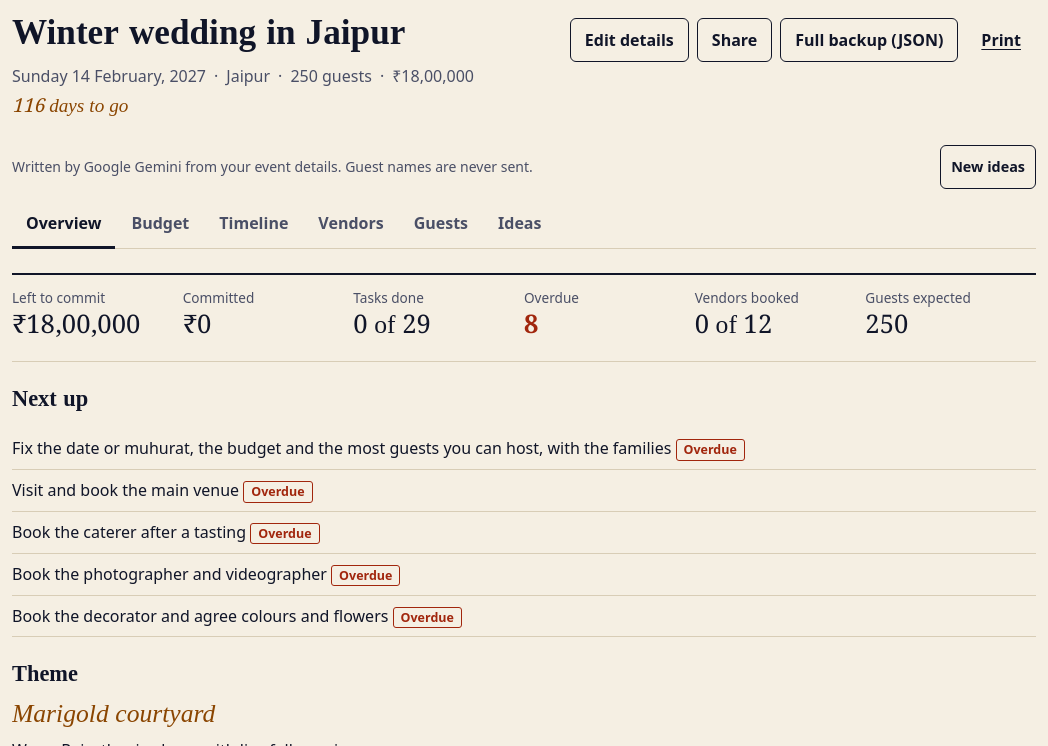
Test: AI announcements › keeps AI tasks and proposed tasks from landing before today
This screenshot has width=1048, height=746.
Click the tab "Ideas" at [520, 225], box [484, 201, 556, 249]
(page scrolled)
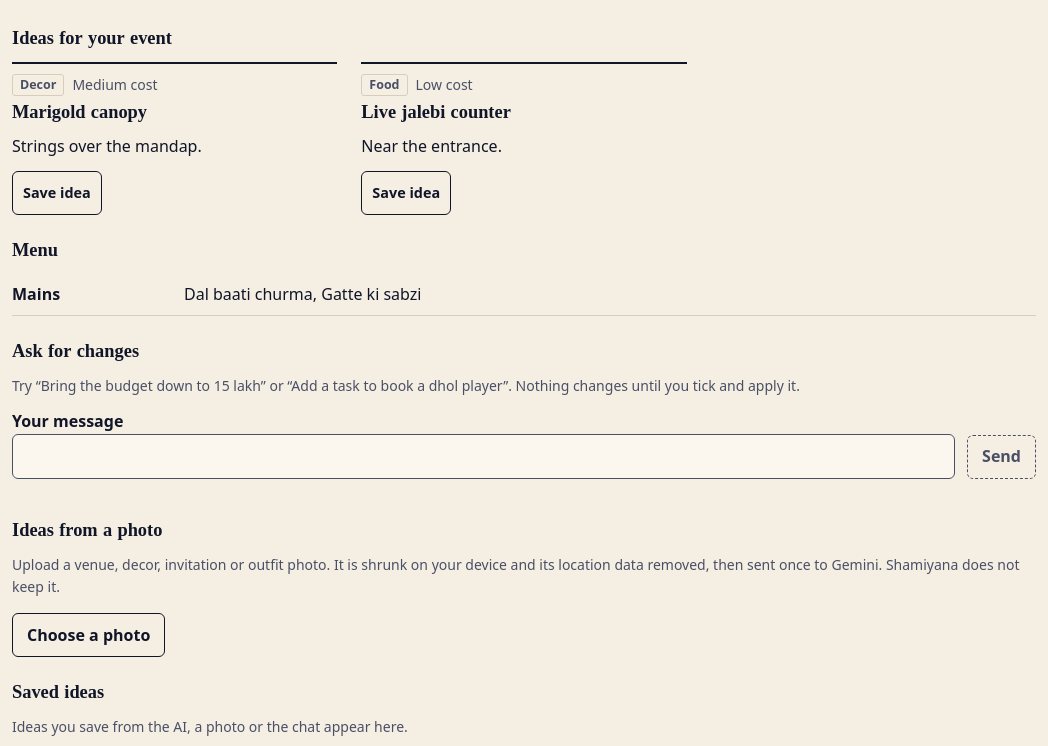
Click the field labelled "Your message" at [484, 456], box [12, 434, 955, 479]
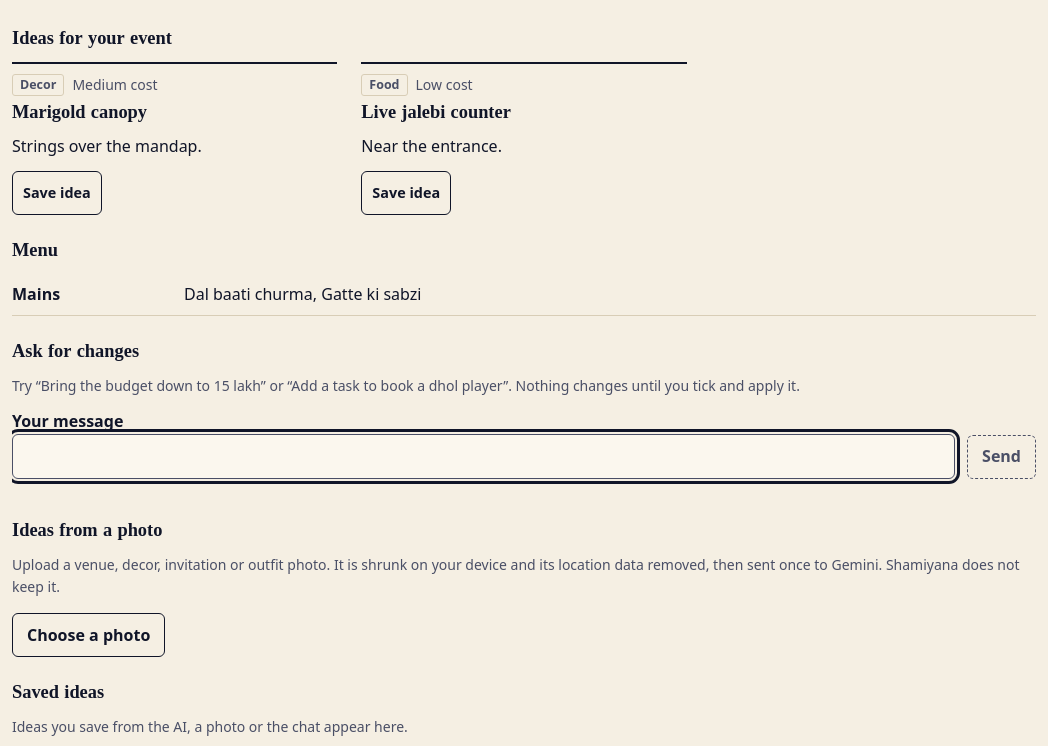
Type keys "Add a valet task"
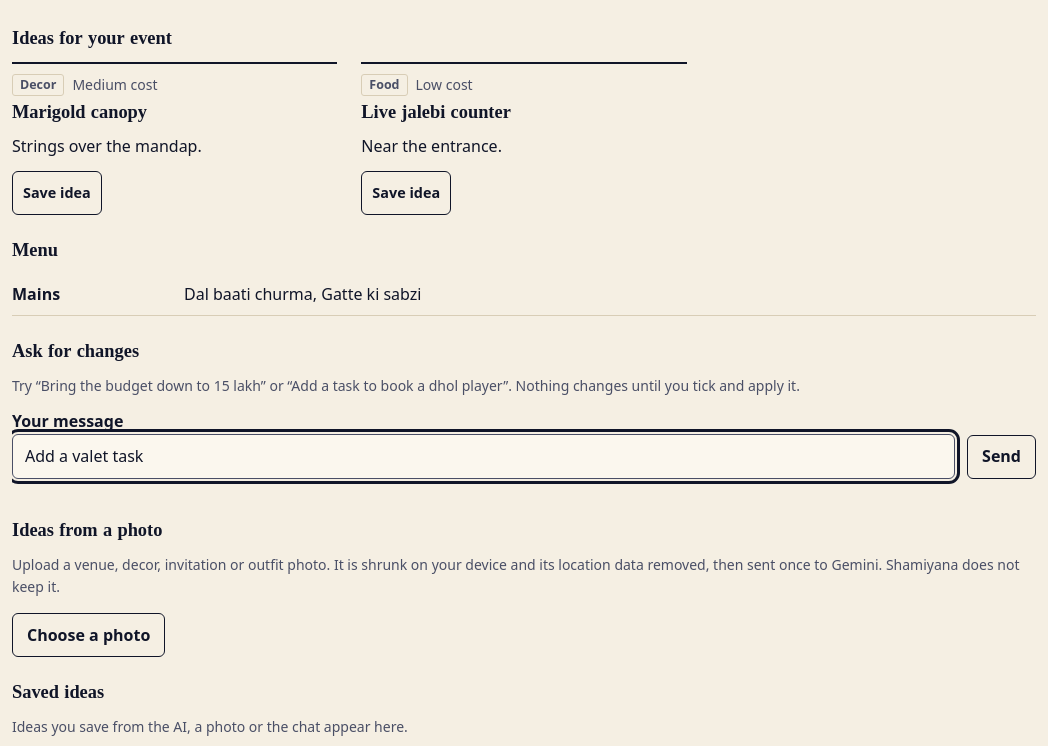
Click the button "Send" at [1002, 457], box [967, 435, 1036, 479]
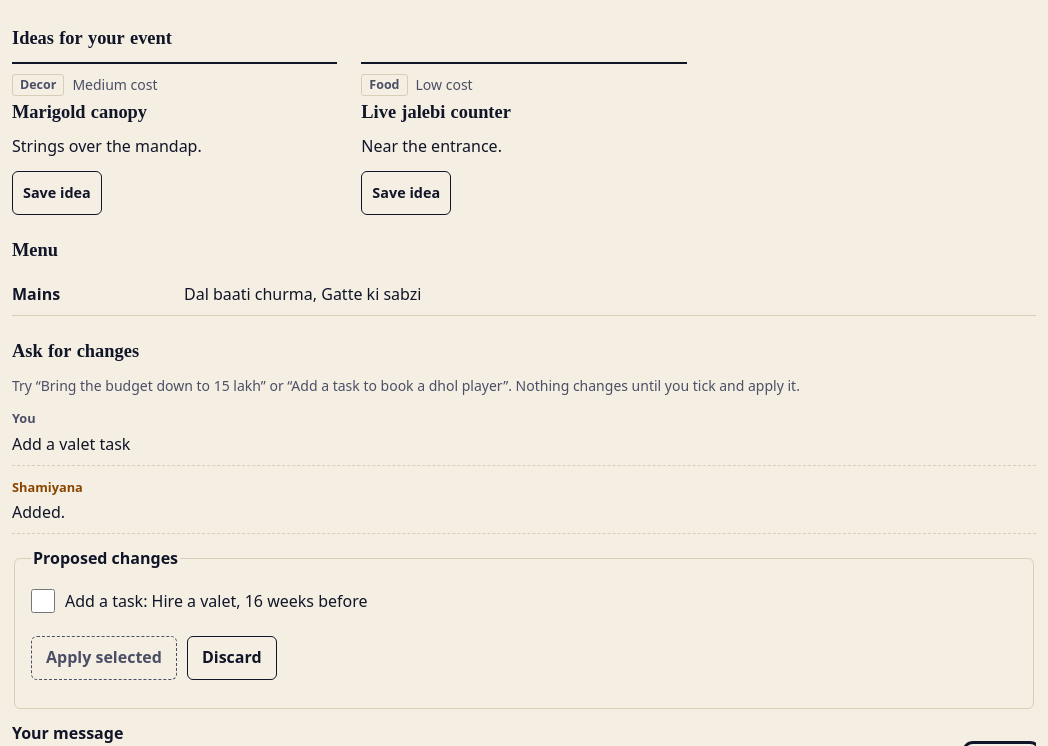
Now the text "Add a task: Hire a valet, 16 weeks before" is shown, box [65, 589, 368, 614]
